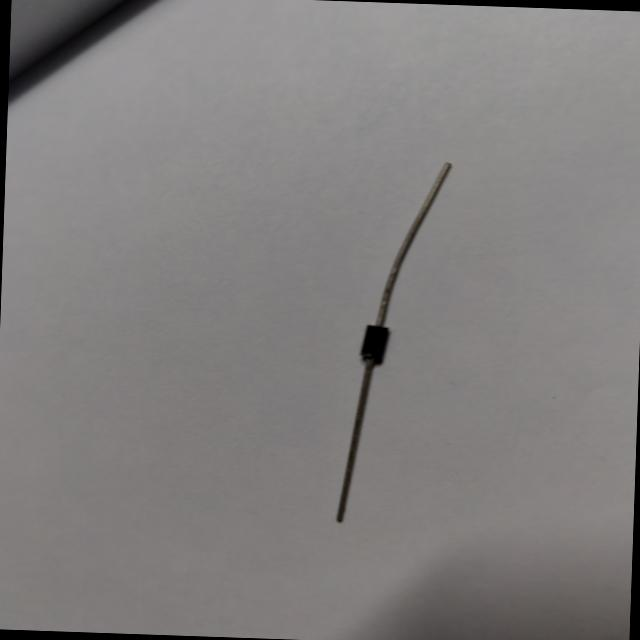resistor: (307, 149, 467, 536)
